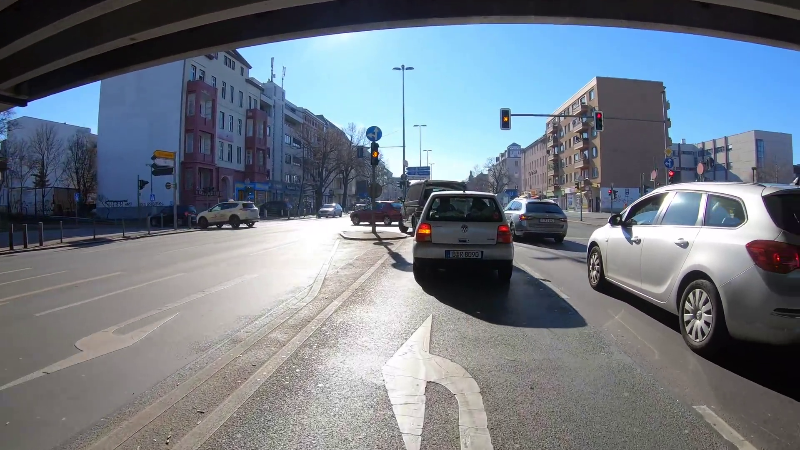Plate: (442, 249, 483, 261)
